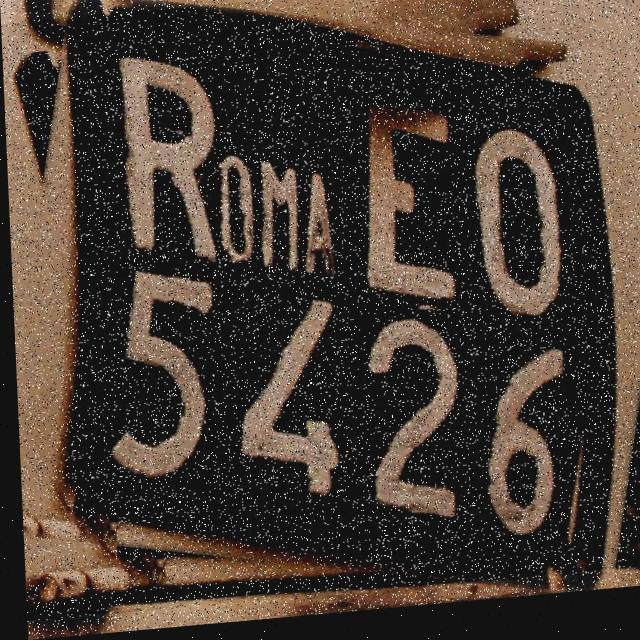LicensePlate: (1, 0, 640, 621)
